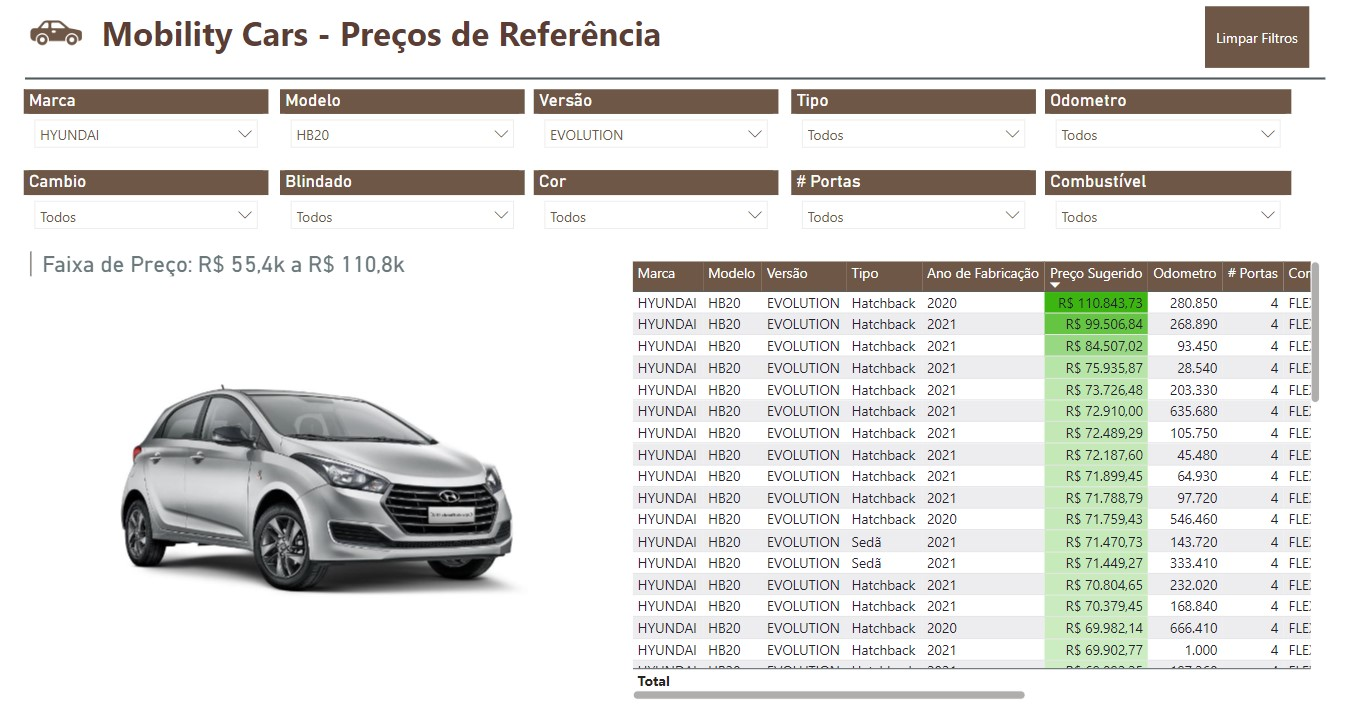

The page's visual inventory and layout, read from the dashboard file:
{"tool":"powerbi","page":{"name":"Página 1","canvas":[1280,720],"ordinal":0},"visuals":[{"type":"slicer","title":"Marca","fields":{"Values":["Tabela de Preços (2).marca"]},"box":[8.9,96.2,236.6,83.6],"z":0},{"type":"slicer","title":"Modelo","fields":{"Values":["Tabela de Preços (2).modelo"]},"box":[256.5,96.2,236.6,83.6],"z":1000},{"type":"slicer","title":"Versão","fields":{"Values":["Tabela de Preços (2).versao"]},"box":[502.5,96.8,236.6,83.6],"z":2000},{"type":"slicer","title":"Tipo","fields":{"Values":["Tabela de Preços (2).tipo"]},"box":[750.7,96.2,236.6,78.9],"z":3000},{"type":"slicer","title":"Combustível","fields":{"Values":["Tabela de Preços (2).combustivel"]},"box":[997,175.1,238.1,74.1],"z":4000},{"type":"slicer","title":"Cambio","fields":{"Values":["Tabela de Preços (2).cambio"]},"box":[8.9,175.1,236.6,74.1],"z":5000},{"type":"slicer","title":"Blindado","fields":{"Values":["Tabela de Preços (2).blindado"]},"box":[256.5,175.1,236.6,74.1],"z":6000},{"type":"slicer","title":"Cor","fields":{"Values":["Tabela de Preços (2).cor"]},"box":[502.5,175.7,236.6,74.1],"z":7000},{"type":"ImageGrid_FC5183B9_926C_45E0_B5F7_0CE9EAF1DA9B","fields":{"ImageURL":["Imagens.link"]},"box":[12.6,268.1,559.9,424.3],"z":8000},{"type":"slicer","title":"Odometro","fields":{"Values":["Carros.odometro"]},"box":[997,96.2,238.1,78.9],"z":9000},{"type":"slicer","title":"# Portas","fields":{"Values":["Carros.num_portas"]},"box":[750.7,175.1,236.6,74.1],"z":10000},{"type":"tableEx","fields":{"Values":["Carros.marca","Carros.modelo","Carros.versao","Carros.tipo","Carros.ano_de_fabricacao","Sum(Carros.preco sugerido)","Sum(Carros.odometro)","Sum(Carros.num_portas)","Carros.combustivel","Carros.cambio","Carros.cor","Carros.Localidade"]},"box":[591.4,258.7,676.6,433.7],"z":11000},{"type":"shape","box":[9.5,75.7,1258.6,20.5],"z":12000},{"type":"textbox","box":[78.9,15.8,591.4,59.9],"z":12001},{"type":"image","box":[9.5,15.8,59.9,59.9],"z":12002},{"type":"multiRowCard","fields":{"Values":["Carros.Faixa de Preço"]},"box":[9.5,249.2,441.6,36.3],"z":12003},{"type":"actionButton","box":[1151.8,16.5,100.5,59.3],"z":12004}]}

Visuals, with their boxes on the page's 1280x720 design canvas (x1, y1, x2, y2). These are canvas units, not pixel positions in the 1346x718 screenshot, which may show the page scaled, cropped or inside an application window:
"Marca" slicer: 9/96/246/180
"Modelo" slicer: 256/96/493/180
"Versão" slicer: 502/97/739/180
"Tipo" slicer: 751/96/987/175
"Combustível" slicer: 997/175/1235/249
"Cambio" slicer: 9/175/246/249
"Blindado" slicer: 256/175/493/249
"Cor" slicer: 502/176/739/250
ImageGrid_FC5183B9_926C_45E0_B5F7_0CE9EAF1DA9B - Imagens.link: 13/268/572/692
"Odometro" slicer: 997/96/1235/175
"# Portas" slicer: 751/175/987/249
tableEx - Carros.marca x Carros.modelo: 591/259/1268/692
shape: 10/76/1268/96
textbox: 79/16/670/76
image: 10/16/69/76
multiRowCard - Carros.Faixa de Preço: 10/249/451/286
actionButton: 1152/16/1252/76
